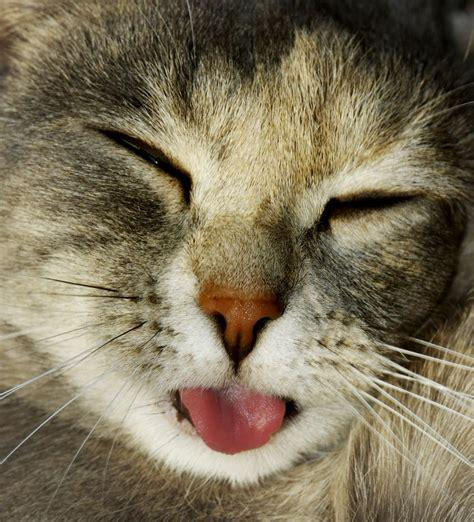cat: (1, 1, 474, 522)
